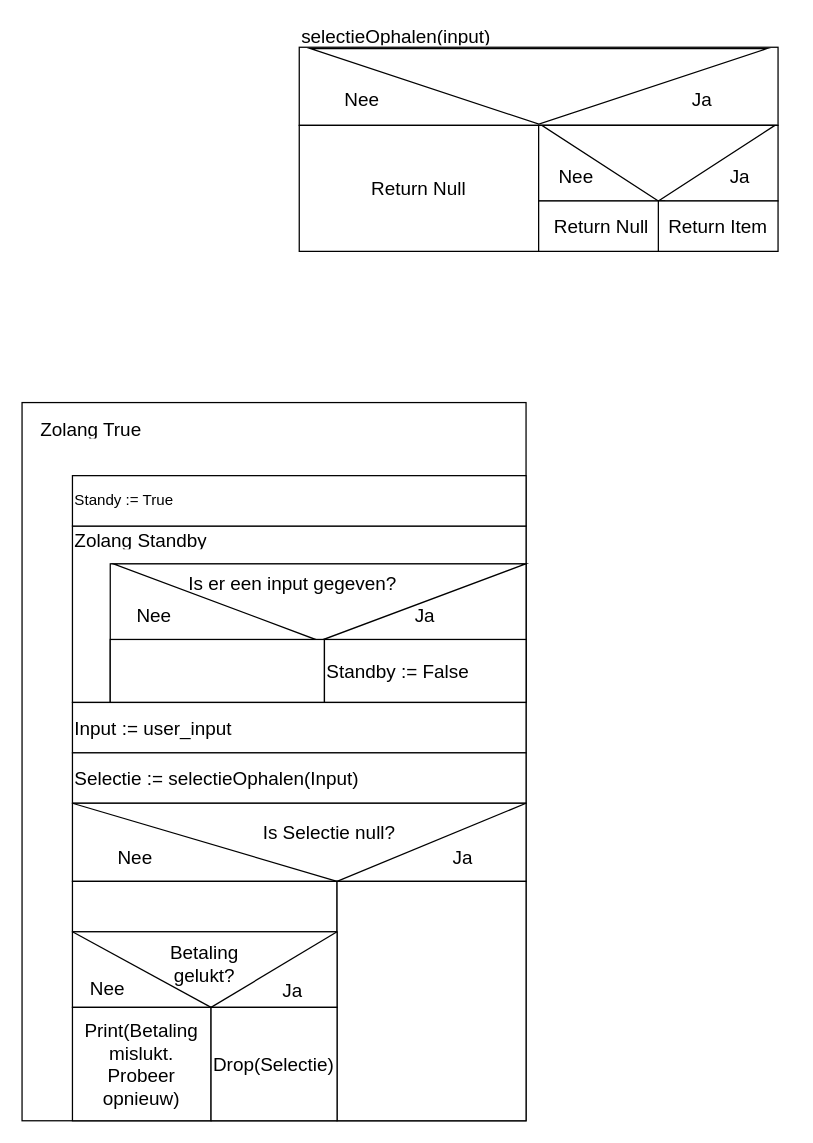
The diagram is 813 pixels wide and 1143 high, and some of its shapes have lost their labels. The centre of each missing label's shape, as x and y in pixels:
Bestaat selectie?: point 538,85
Is selectie op voorraad?: point 658,162
Print(Selectie bestaat niet of is niet meer op voorraad): point 431,1000
Start betaling: point 204,906
